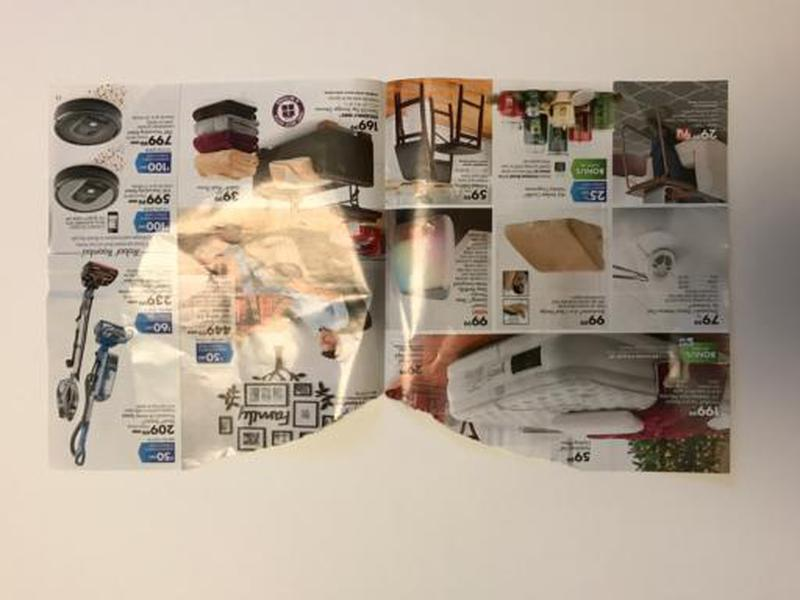paper: (39, 74, 741, 478)
